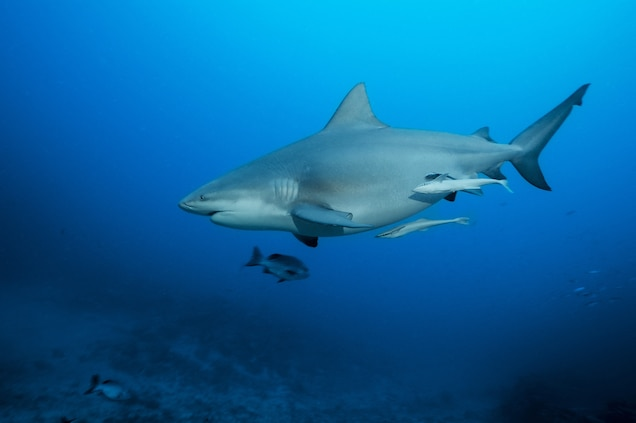shark: (180, 76, 602, 246)
